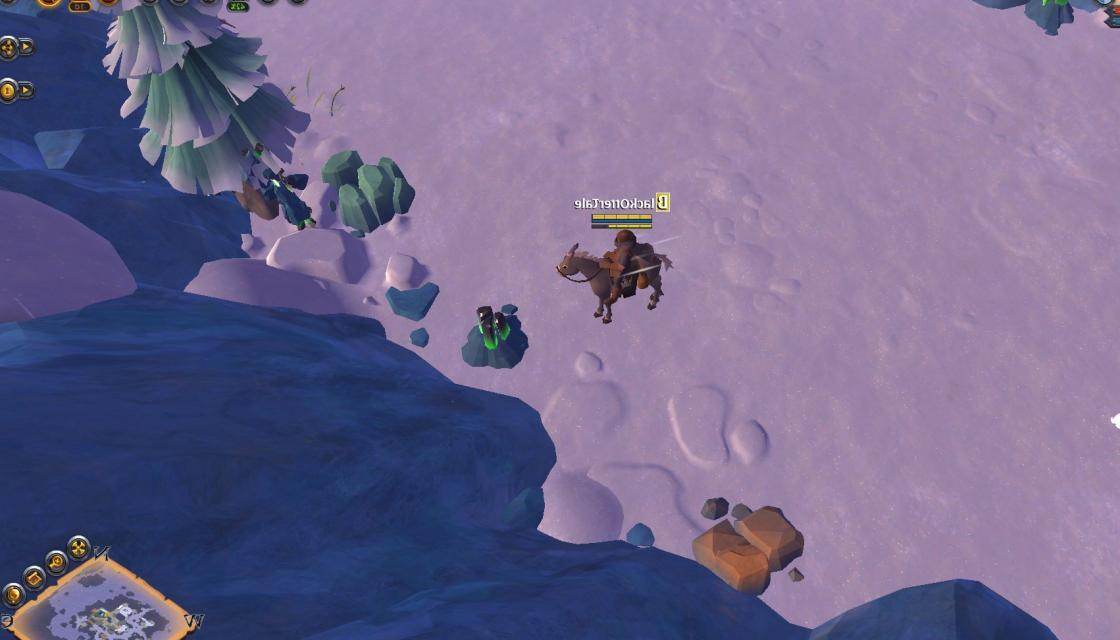limestone: (693, 504, 808, 594)
sandstone: (321, 150, 419, 228)
tinore: (454, 300, 536, 370), (1022, 0, 1076, 32)
